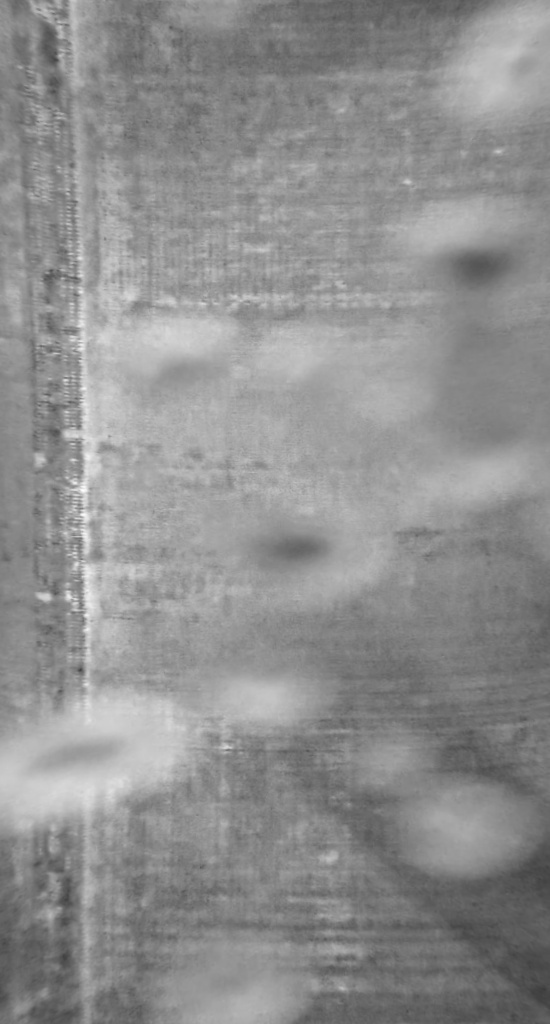splice: (6, 1, 109, 1024)
